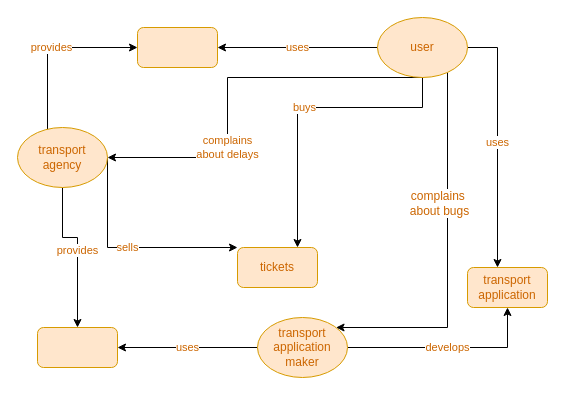
Image size: 565x395. Some labels were removed from this diagram. Here are the shapes that lost their labels. From the top down, the box of each, then its label:
(136, 26, 218, 68): means of transport
(36, 326, 118, 368): timetable
